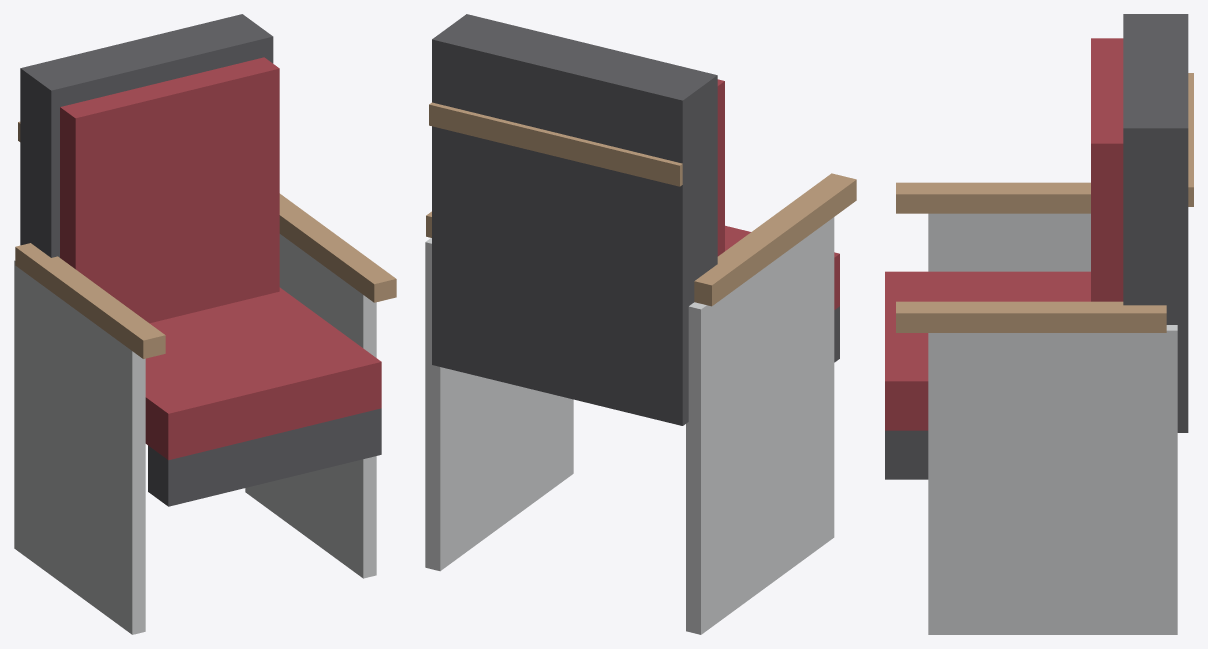
The model's file is Auditorium_Seat.fbx.
3 renders of one model, left to right at view 1: azimuth 30°, elevation 25°; view 2: azimuth 150°, elevation 25°; view 3: azimuth 270°, elevation 25°, orthographic. The views are drawn at different scales.
Parts seen in each view (by area): view 1: Auditorium_Seat; view 2: Auditorium_Seat; view 3: Auditorium_Seat.
Boxes of the visible parts, x1,y1,x2,y2 form: Auditorium_Seat: (14, 14, 396, 634); Auditorium_Seat: (425, 14, 856, 634); Auditorium_Seat: (885, 14, 1193, 634).
Bounding box in the file's own units: 0.57 × 1.02 × 0.57.
